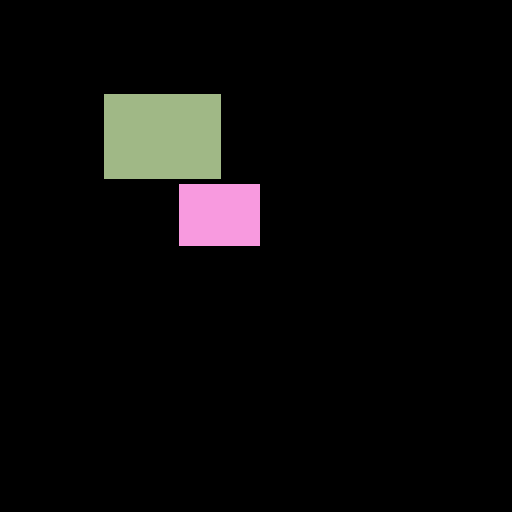rectangle: (104, 94, 220, 178), (179, 184, 259, 245)
